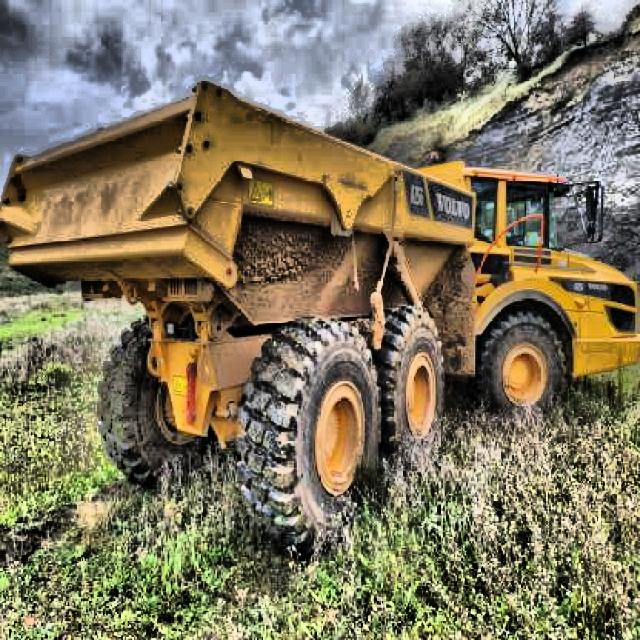dump_truck: (8, 75, 639, 553)
